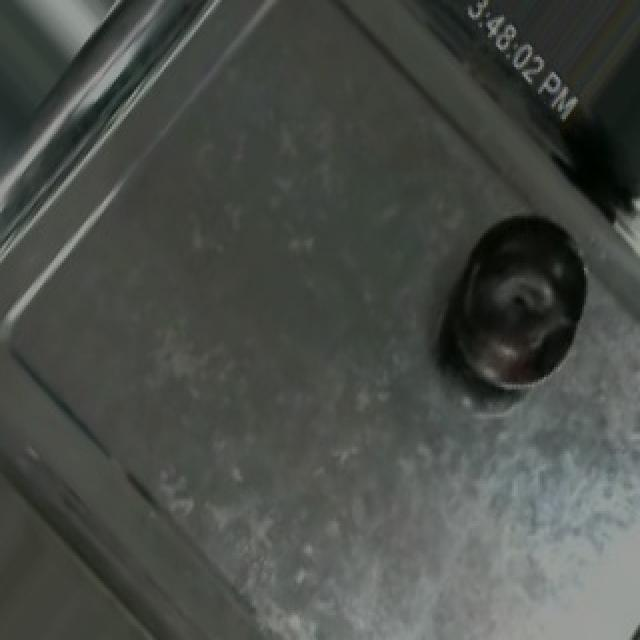Fruit: (440, 193, 604, 410), (550, 57, 640, 228)
